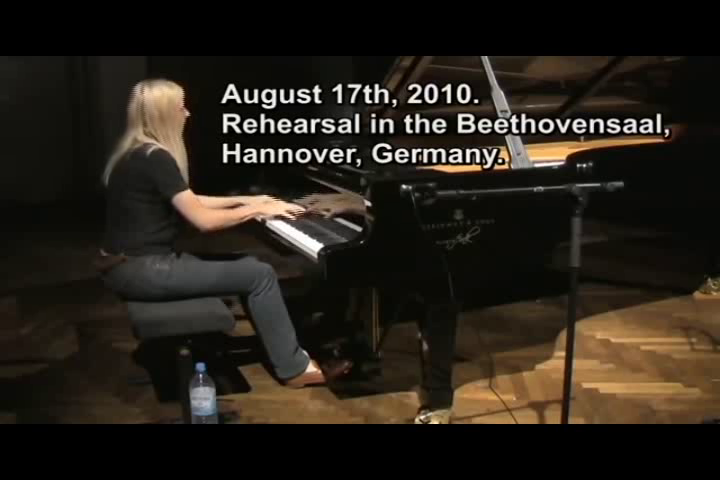keyboard: (228, 184, 354, 260)
